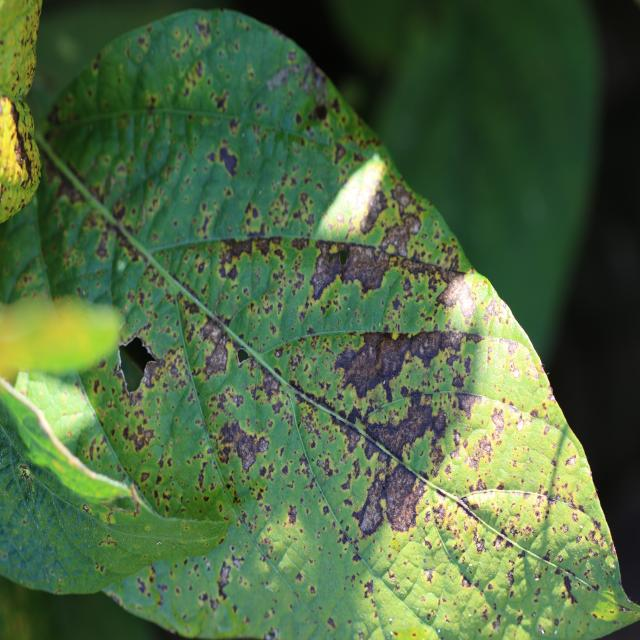Bacterial_Blight: (104, 233, 414, 573), (347, 329, 613, 621), (303, 237, 494, 529), (181, 239, 320, 347), (101, 357, 192, 489), (335, 321, 479, 399), (282, 326, 388, 420), (337, 326, 441, 409), (325, 241, 449, 310), (112, 251, 185, 348), (365, 386, 437, 465), (177, 288, 238, 375), (380, 189, 431, 257), (455, 412, 506, 476), (215, 415, 268, 475), (381, 460, 425, 529), (353, 472, 388, 533), (207, 236, 264, 273), (296, 403, 332, 458), (264, 61, 316, 99), (9, 97, 31, 183), (309, 247, 343, 298), (439, 273, 476, 319), (201, 324, 231, 379), (359, 186, 389, 232), (122, 418, 156, 454), (409, 330, 443, 364), (258, 369, 281, 403), (93, 228, 112, 260)
Soybean: (0, 11, 640, 640)
